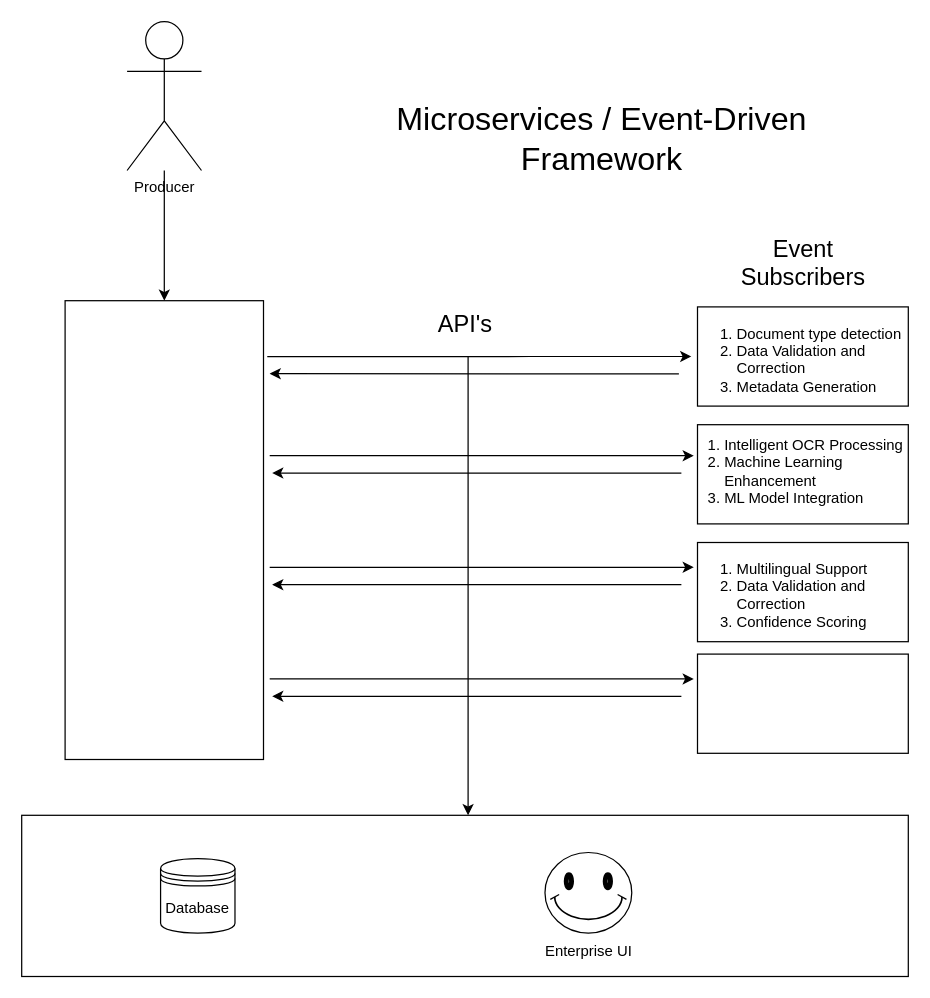
Some shapes in this 930 by 998 pixel diagram are drawn without their labels. The shapes that lost their labels are listed below. From the top down, each one's box as (x1, y1, x2, y2) in pixels, then its label:
(64, 299, 264, 760): Event Broker
(696, 653, 908, 753): Multi stage pipeline Asynchronous Processing Caching Layer
